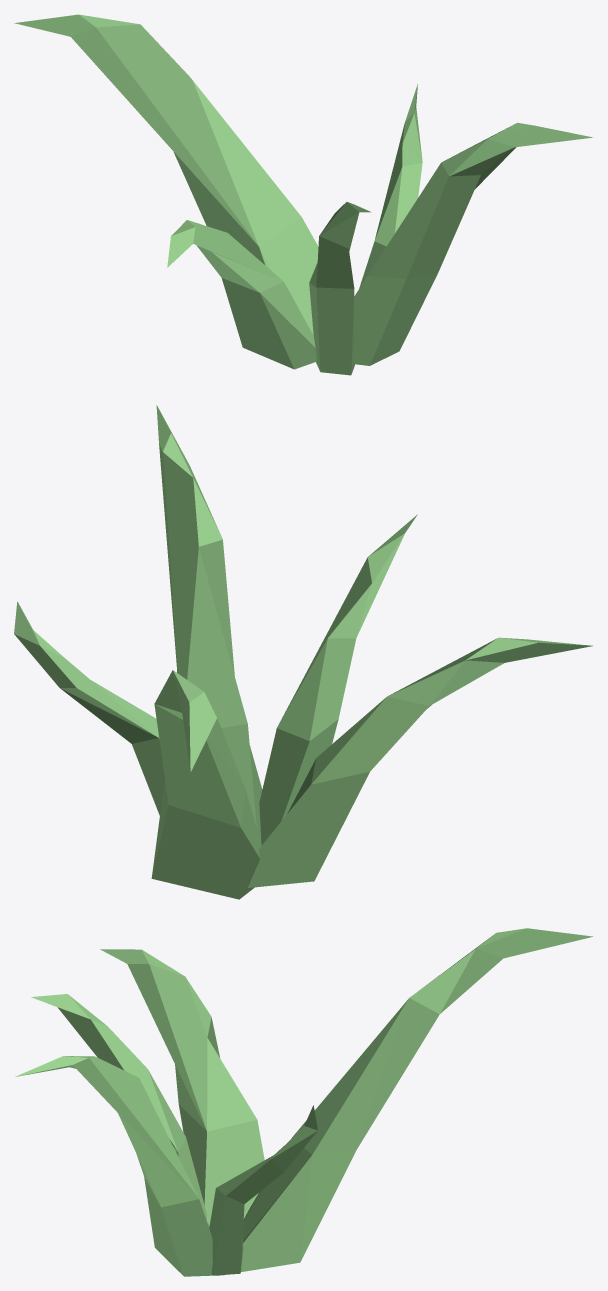
File: Grass_01.fbx
3 renders of one model, top to bottom at view 1: azimuth 30°, elevation 25°; view 2: azimuth 150°, elevation 25°; view 3: azimuth 270°, elevation 25°, orthographic. The views are drawn at different scales.
Visible parts, largest first — view 1: grass_01; view 2: grass_01; view 3: grass_01.
Boxes of the visible parts, bbox=[...] form: grass_01: bbox=[14, 14, 593, 375]; grass_01: bbox=[14, 405, 592, 899]; grass_01: bbox=[15, 928, 592, 1276].
Size of the model in its own units: 92.44 by 59.88 by 115.
Materials: 1 (1 with a texture image).
